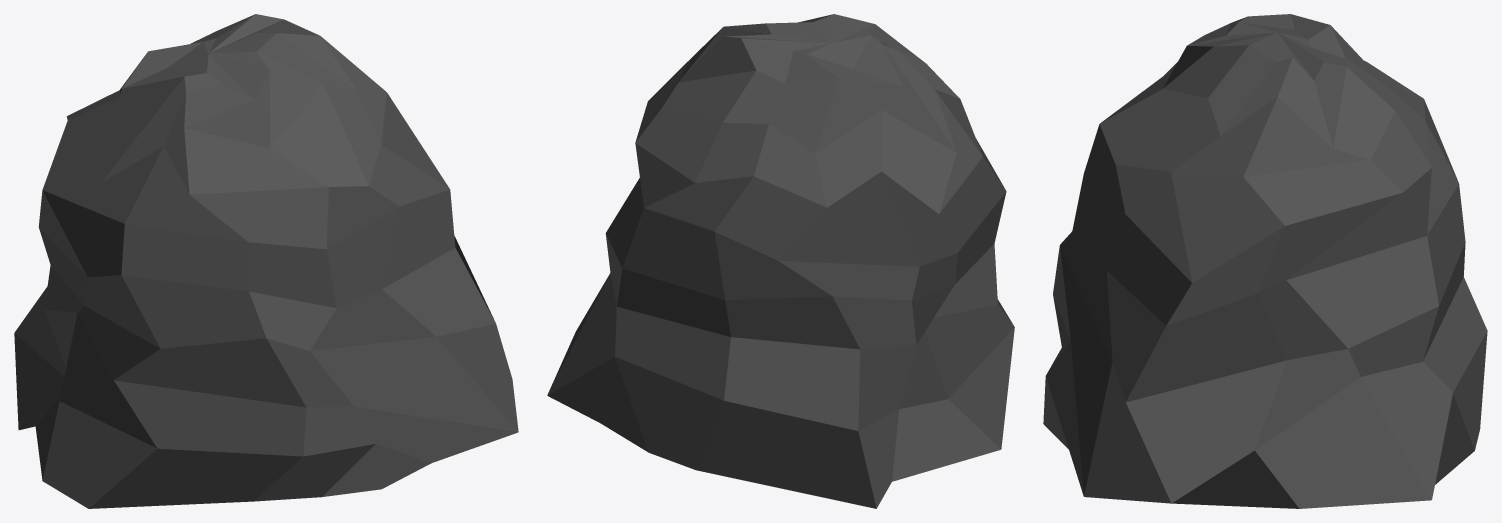
Rendered from rock03.gltf.
The picture shows the model from 3 angles, left to right: view 1: azimuth 30°, elevation 25°; view 2: azimuth 150°, elevation 25°; view 3: azimuth 270°, elevation 25°; orthographic projection. The views are drawn at different scales.
Parts seen in each view (by area): view 1: Sphere; view 2: Sphere; view 3: Sphere.
Boxes of the visible parts, x1,y1,x2,y2 form: Sphere: (14, 14, 518, 508); Sphere: (547, 14, 1014, 508); Sphere: (1043, 14, 1487, 508).
Bounding box in the file's own units: 7.09 × 6.51 × 6.41.
1 material, 1 textured.
